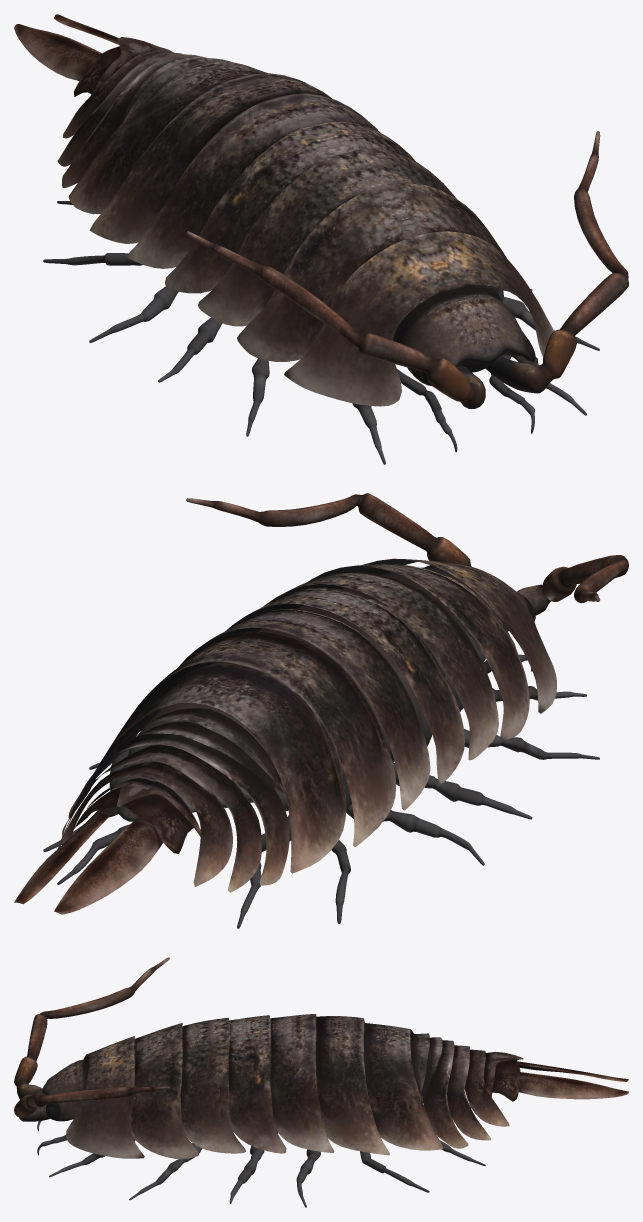
The picture shows the model from 3 angles, top to bottom: view 1: azimuth 30°, elevation 25°; view 2: azimuth 150°, elevation 25°; view 3: azimuth 270°, elevation 25°; orthographic projection. The views are drawn at different scales.
Visible parts, largest first — view 1: _ke_in; view 2: _ke_in; view 3: _ke_in.
Part boxes in pixels (box(x1,y1,x2,y2)): _ke_in: box(14, 14, 628, 464); _ke_in: box(14, 493, 628, 928); _ke_in: box(14, 957, 628, 1207).
Size of the model in its own units: 11.05 by 4.93 by 22.04.
Materials: 1 (1 with a texture image).
